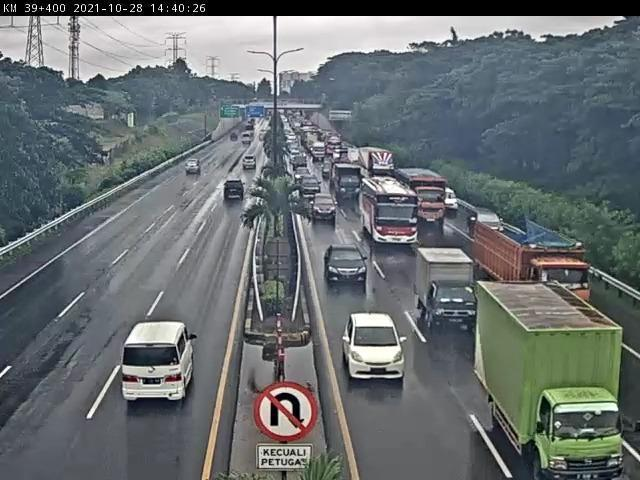bus: (357, 173, 425, 257)
